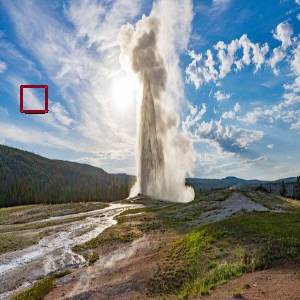square: (18, 83, 50, 115)
